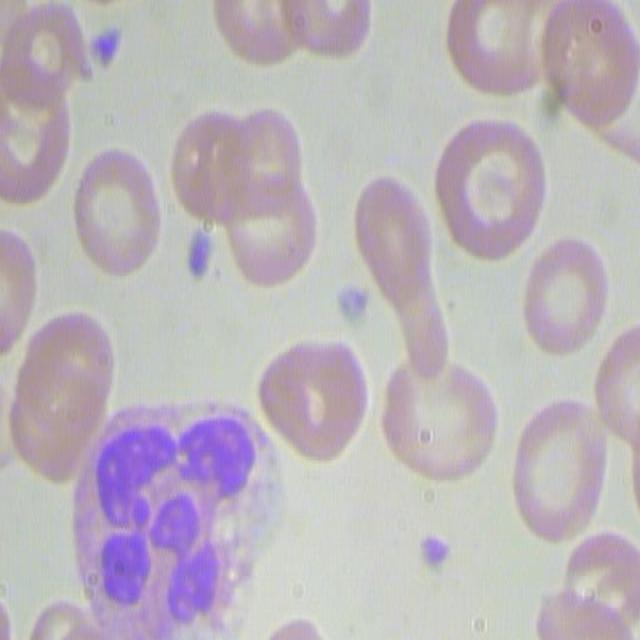RBC: (217, 97, 326, 296), (3, 302, 108, 489), (431, 111, 552, 268), (507, 395, 609, 543), (380, 359, 498, 486), (256, 334, 366, 465), (531, 0, 637, 135), (518, 220, 612, 358), (70, 146, 161, 284), (531, 528, 638, 638), (353, 168, 432, 297), (441, 0, 548, 95), (0, 64, 64, 214), (4, 2, 90, 107), (209, 0, 305, 71), (279, 0, 381, 65), (596, 313, 640, 447), (0, 225, 37, 352), (98, 27, 120, 69)
WBC: (72, 398, 249, 640)
platelets: (182, 222, 218, 290), (334, 282, 370, 325), (418, 534, 447, 571)
